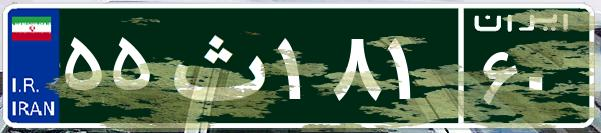0: (525, 38, 570, 115)
1: (385, 28, 445, 110), (273, 28, 330, 110)
5: (57, 26, 110, 107), (110, 28, 158, 105)
6: (475, 38, 525, 113)
8: (330, 28, 385, 110)
ث: (158, 15, 273, 115)
